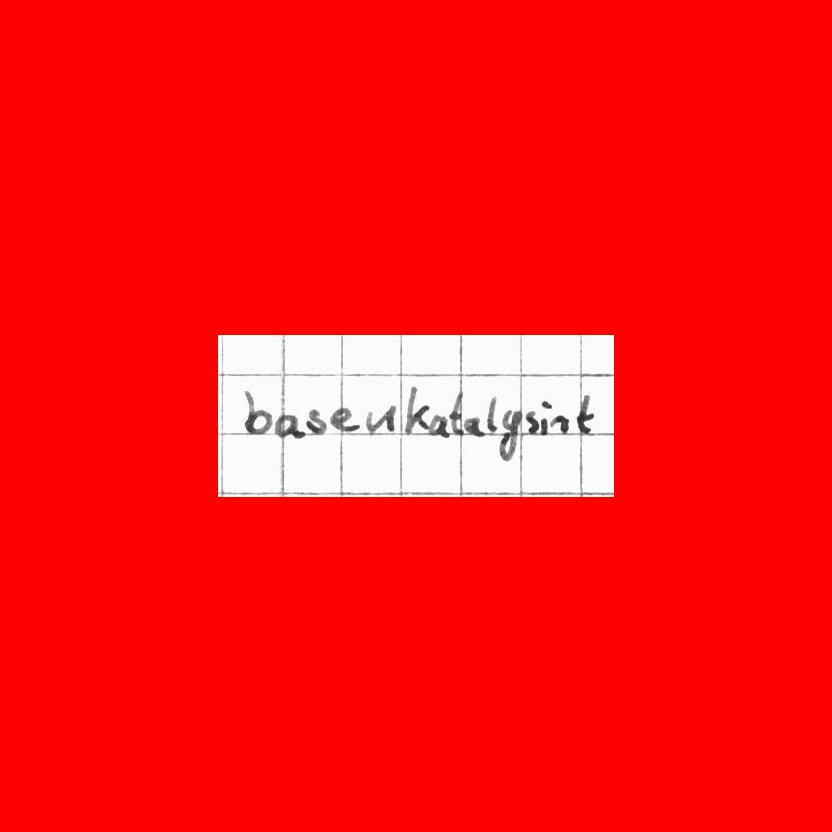Char: (240, 387, 274, 436), (497, 403, 520, 462), (402, 383, 425, 433), (574, 392, 596, 436), (366, 403, 396, 435), (274, 407, 303, 440), (329, 406, 360, 433), (448, 390, 465, 436), (304, 407, 326, 436), (426, 409, 448, 438), (537, 399, 552, 437), (484, 396, 498, 436), (465, 414, 485, 438), (525, 407, 541, 436), (552, 413, 569, 437)
